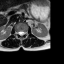CCS_normal: (20, 29, 22, 38)
LFS_normal: (24, 29, 26, 36)
LLS_normal: (22, 29, 24, 37)
RFS_normal: (16, 29, 18, 35)
RLS_normal: (18, 29, 20, 37)
